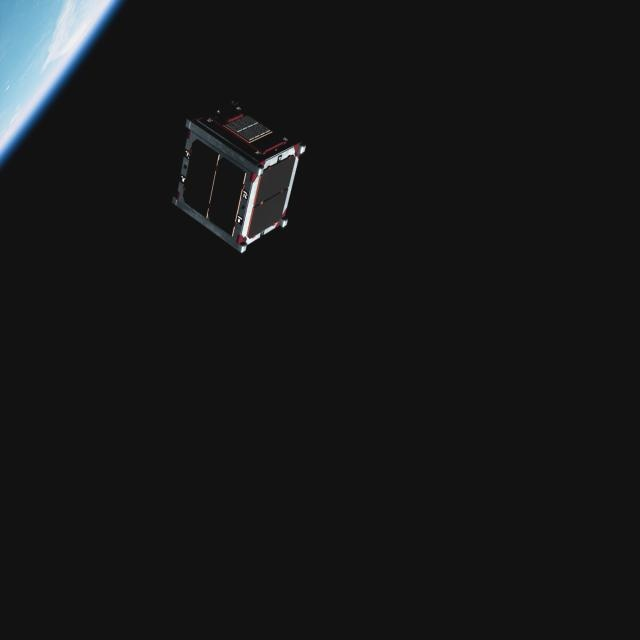medium_debris: (168, 87, 308, 258)
